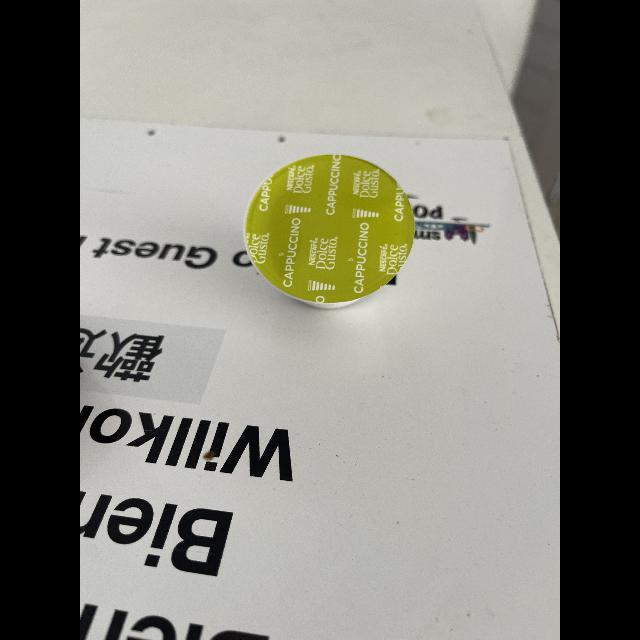intact_capsule: (230, 139, 436, 315)
